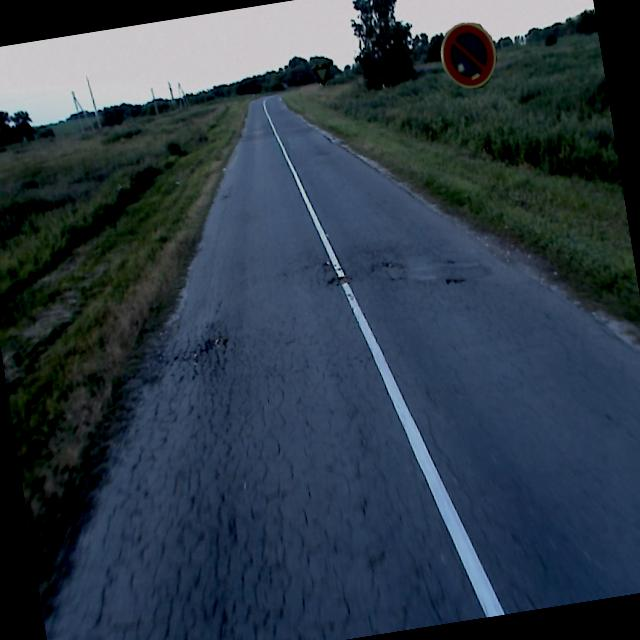road: (48, 97, 640, 640)
